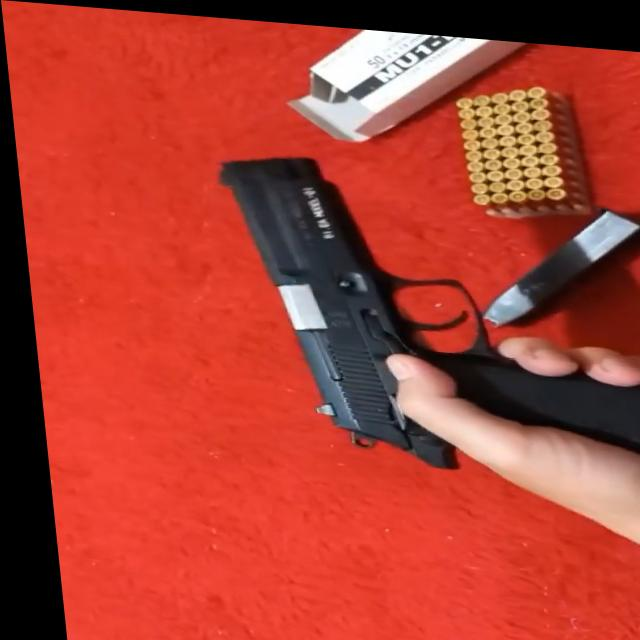handgun: (207, 132, 422, 440)
